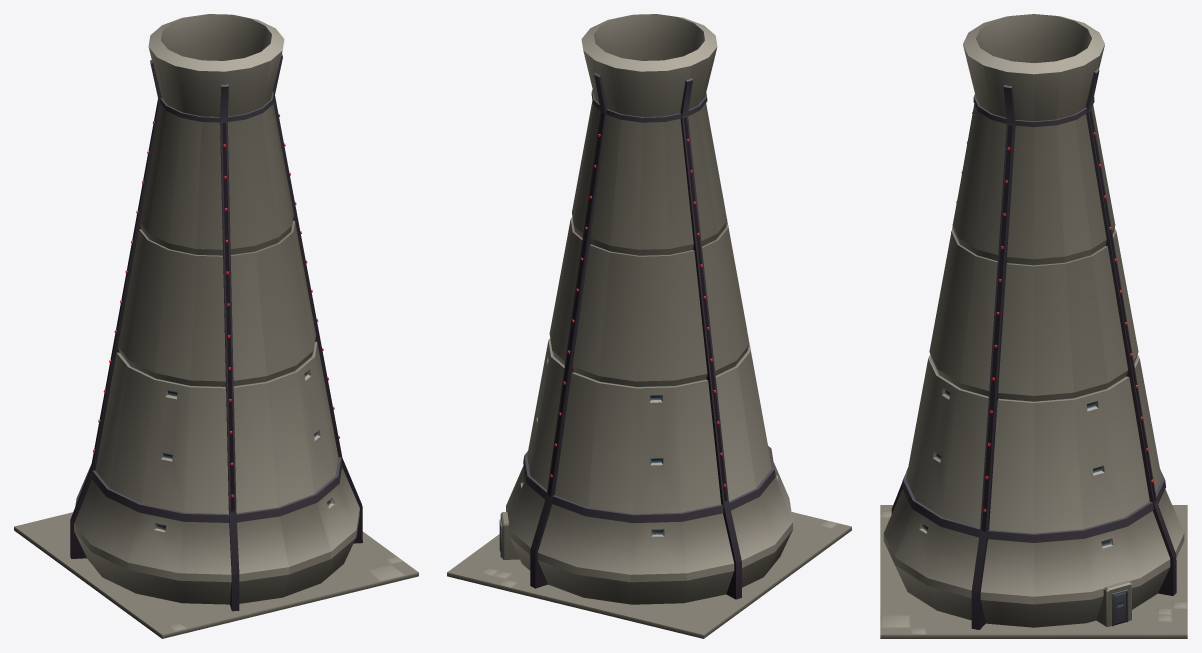
File: Giant_Chimney_1B.fbx
3 views of the same model, side by side, from view 1: azimuth 30°, elevation 25°; view 2: azimuth 150°, elevation 25°; view 3: azimuth 270°, elevation 25° (orthographic). The views are drawn at different scales.
Visible parts, largest first — view 1: Giant_Chimney_1B; view 2: Giant_Chimney_1B; view 3: Giant_Chimney_1B.
Part boxes in pixels (bbox=[...]): Giant_Chimney_1B: bbox=[14, 14, 418, 638]; Giant_Chimney_1B: bbox=[447, 14, 851, 638]; Giant_Chimney_1B: bbox=[880, 14, 1187, 638].
Size of the model in its own units: 2000 by 3844 by 2000.
